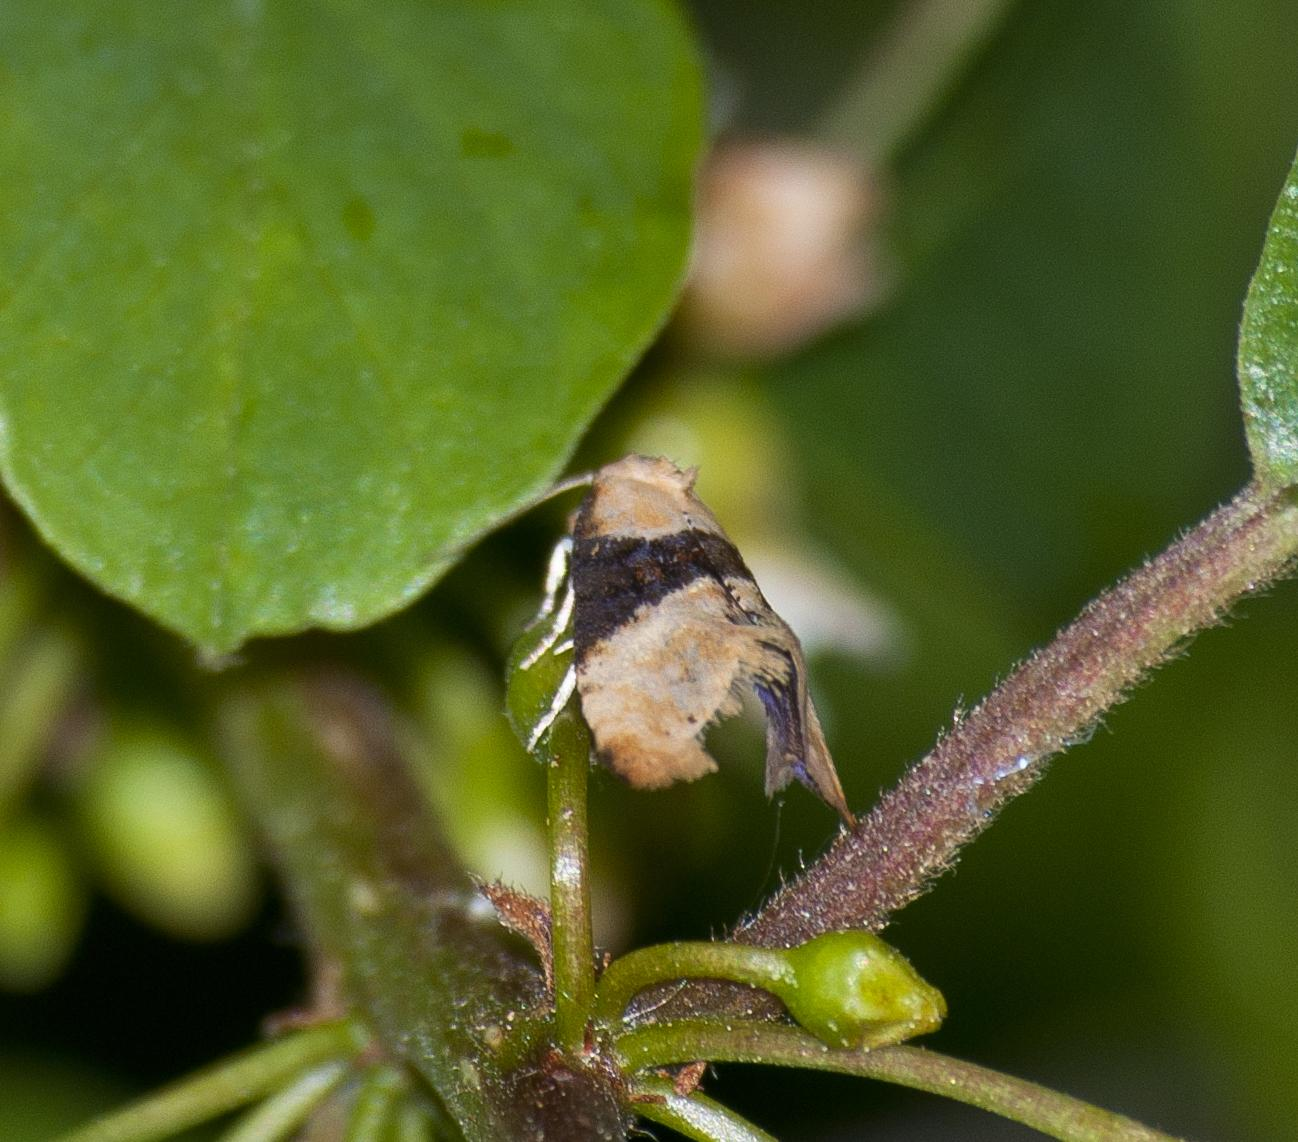Eupoecilia Ambiguella: (526, 447, 866, 843)
